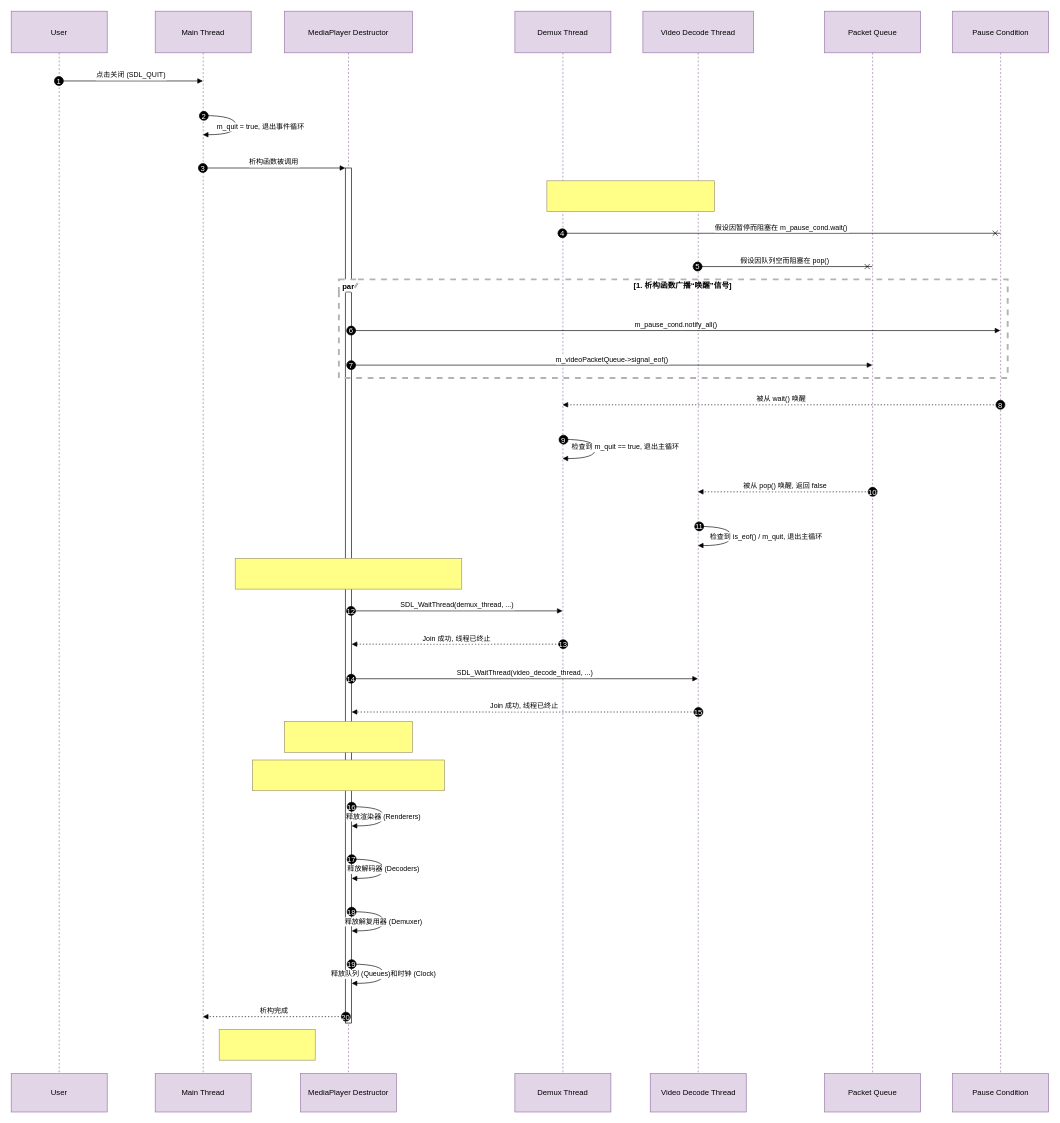
This 1060x1123 diagram has some shape labels left out. The centre of each missing label's shape, as x and y in pixels:
"... (等待所有其他线程) ..." belongs at point (348, 736).
"2. 按“生产者->消费者”顺序，串行等待线程终止" belongs at point (348, 573).
"3. 所有线程已退出, 按依赖逆序释放资源" belongs at point (348, 775).
"程序安全退出" belongs at point (267, 1044).
"线程可能因暂停或等待数据而阻塞" belongs at point (630, 196).
